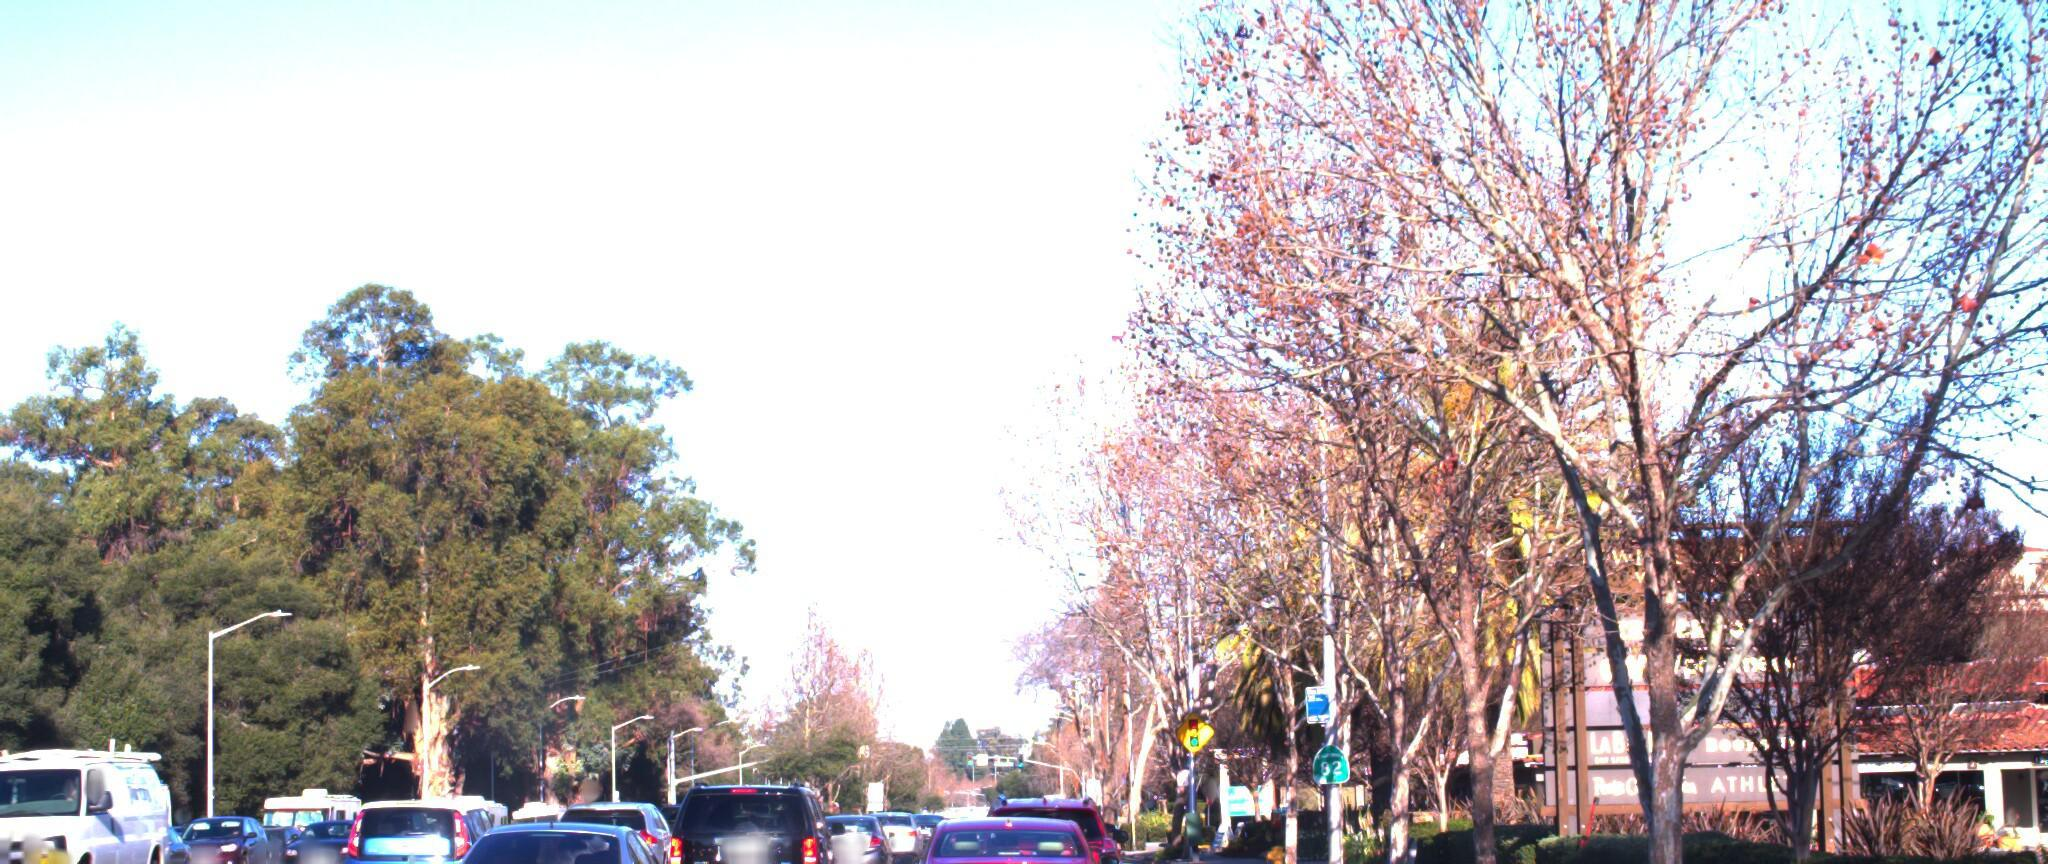bus: (0, 741, 121, 864)
car: (0, 717, 196, 864), (654, 744, 837, 864), (434, 794, 711, 864), (325, 774, 520, 864), (893, 791, 1121, 864), (974, 773, 1125, 864), (815, 790, 906, 864), (0, 784, 44, 864)
